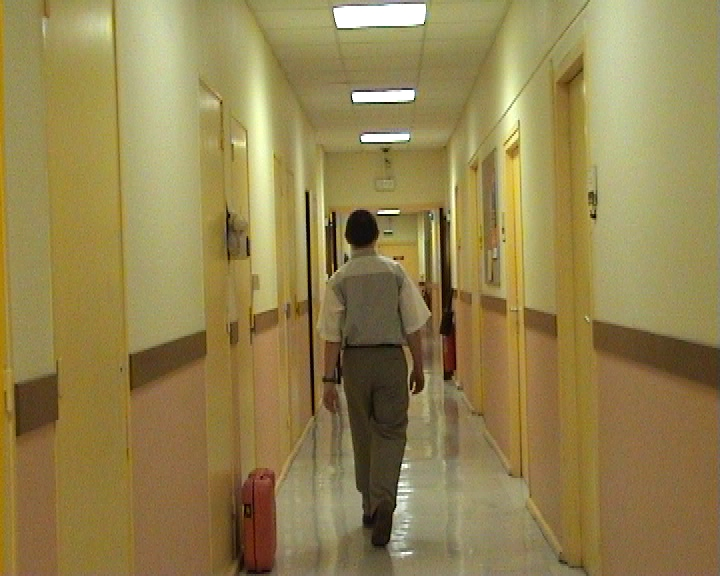leave bag unattended: (206, 442, 312, 576)
